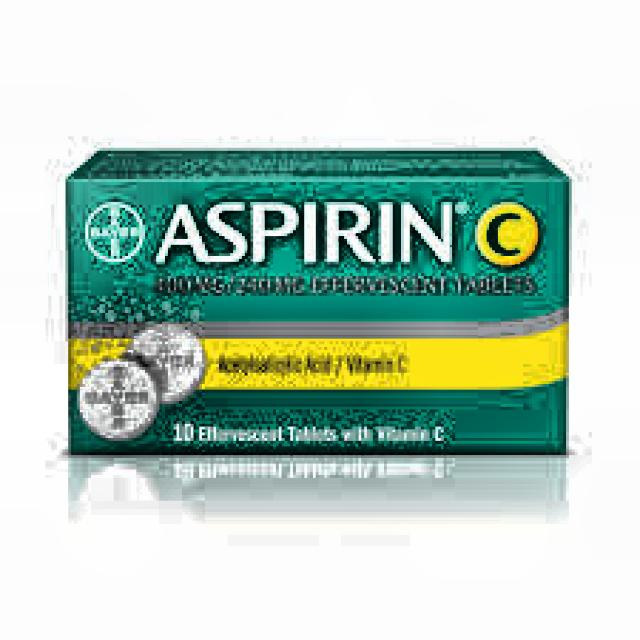Aspirin: (69, 181, 566, 452)
